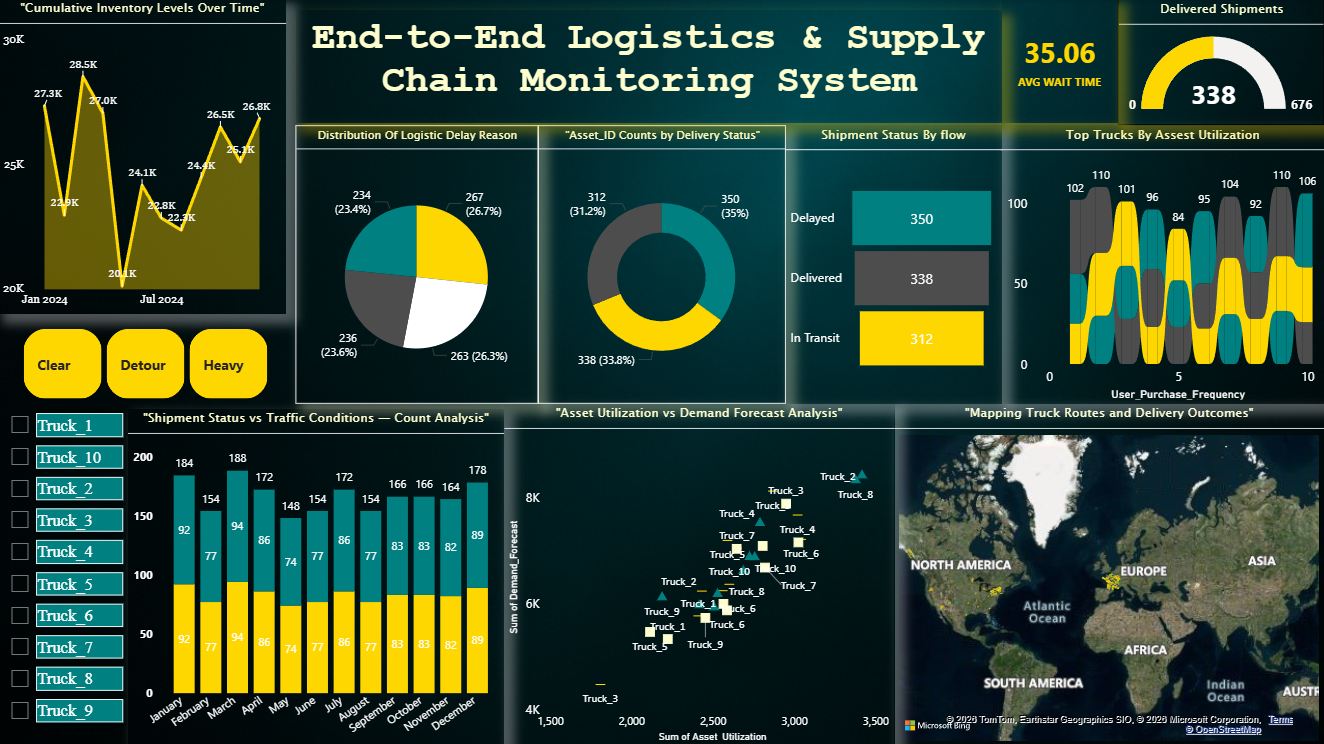

Layout of this report page (visuals, bound fields, positions):
{"tool":"powerbi","page":{"name":"Page 1","canvas":[1280,720],"ordinal":0},"visuals":[{"type":"filledMap","title":"\"Mapping Truck Routes and Delivery Outcomes\"","fields":{"Series":["smart_logistics_dataset.Shipment_Status"],"Category":["smart_logistics_dataset.Longitude","smart_logistics_dataset.Latitude"]},"box":[865,390.9,415,329.4],"z":0},{"type":"donutChart","title":"\"Asset_ID Counts by Delivery Status\"","fields":{"Y":["CountNonNull(smart_logistics_dataset.Asset_ID)"],"Category":["smart_logistics_dataset.Shipment_Status"]},"box":[521.2,121.9,238.9,269],"z":1000},{"type":"pieChart","title":"Distribution Of Logistic Delay Reason","fields":{"Category":["smart_logistics_dataset.Logistics_Delay_Reason"],"Y":["CountNonNull(smart_logistics_dataset.Asset_ID)"]},"box":[287.1,121.9,234,269],"z":2000},{"type":"areaChart","title":"\t\"Cumulative Inventory Levels Over Time\"","fields":{"Y":["Sum(smart_logistics_dataset.Inventory_Level)"],"Category":["smart_logistics_dataset.Timestamp.Variation.Date Hierarchy.Year","smart_logistics_dataset.Timestamp.Variation.Date Hierarchy.Quarter","smart_logistics_dataset.Timestamp.Variation.Date Hierarchy.Month"]},"box":[0,0,278.7,304],"z":3000},{"type":"columnChart","title":"\t\"Shipment Status vs Traffic Conditions — Count Analysis\"","fields":{"Category":["smart_logistics_dataset.Timestamp.Variation.Date Hierarchy.Month"],"Y":["CountNonNull(smart_logistics_dataset.Shipment_Status)","CountNonNull(smart_logistics_dataset.Traffic_Status)"]},"box":[126,396.2,363.2,324.1],"z":4000},{"type":"ribbonChart","title":"Top Trucks By Assest Utilization","fields":{"Y":["CountNonNull(smart_logistics_dataset.Asset_ID)"],"Series":["smart_logistics_dataset.Shipment_Status"],"Category":["smart_logistics_dataset.User_Purchase_Frequency"]},"box":[968.8,121.9,311.3,269],"z":5000},{"type":"funnel","title":"Shipment Status By flow","fields":{"Category":["smart_logistics_dataset.Shipment_Status"],"Y":["CountNonNull(smart_logistics_dataset.Asset_ID)"]},"box":[760.1,121.9,208.7,269],"z":6000},{"type":"scatterChart","title":"\"Asset Utilization vs Demand Forecast Analysis\"","fields":{"X":["Sum(smart_logistics_dataset.Asset_Utilization)"],"Y":["Sum(smart_logistics_dataset.Demand_Forecast)"],"Series":["smart_logistics_dataset.Traffic_Status"],"Category":["smart_logistics_dataset.Asset_ID"]},"box":[488.6,390.9,376.4,329.4],"z":7000},{"type":"gauge","fields":{"Y":["smart_logistics_dataset.Delivered Shipments"]},"box":[1081,0,199.1,121.9],"z":8000},{"type":"card","fields":{"Values":["smart_logistics_dataset.avg_waiting_time"]},"box":[968.8,0,112.2,119.4],"z":9000},{"type":"slicer","fields":{"Values":["smart_logistics_dataset.Asset_ID"]},"box":[0,390.9,125.5,329.4],"z":10000},{"type":"advancedSlicerVisual","fields":{"Values":["smart_logistics_dataset.Traffic_Status"]},"box":[0,313.7,287.1,77.2],"z":11000},{"type":"textbox","box":[287.1,10.9,681.6,108.6],"z":12000}]}

Visuals, with their boxes in screenshot pixels (x1, y1, x2, y2), scaled from the page's 1280x720 canvas onto the 1324x744 screenshot:
""Mapping Truck Routes and Delivery Outcomes"" filledMap: 895,404,1323,743
""Asset_ID Counts by Delivery Status"" donutChart: 539,126,786,404
"Distribution Of Logistic Delay Reason" pieChart: 297,126,539,404
"	"Cumulative Inventory Levels Over Time"" areaChart: 0,0,288,314
"	"Shipment Status vs Traffic Conditions — Count Analysis"" columnChart: 130,409,506,743
"Top Trucks By Assest Utilization" ribbonChart: 1002,126,1323,404
"Shipment Status By flow" funnel: 786,126,1002,404
""Asset Utilization vs Demand Forecast Analysis"" scatterChart: 505,404,895,743
gauge - smart_logistics_dataset.Delivered Shipments: 1118,0,1323,126
card - smart_logistics_dataset.avg_waiting_time: 1002,0,1118,123
slicer - smart_logistics_dataset.Asset_ID: 0,404,130,743
advancedSlicerVisual - smart_logistics_dataset.Traffic_Status: 0,324,297,404
textbox: 297,11,1002,123
